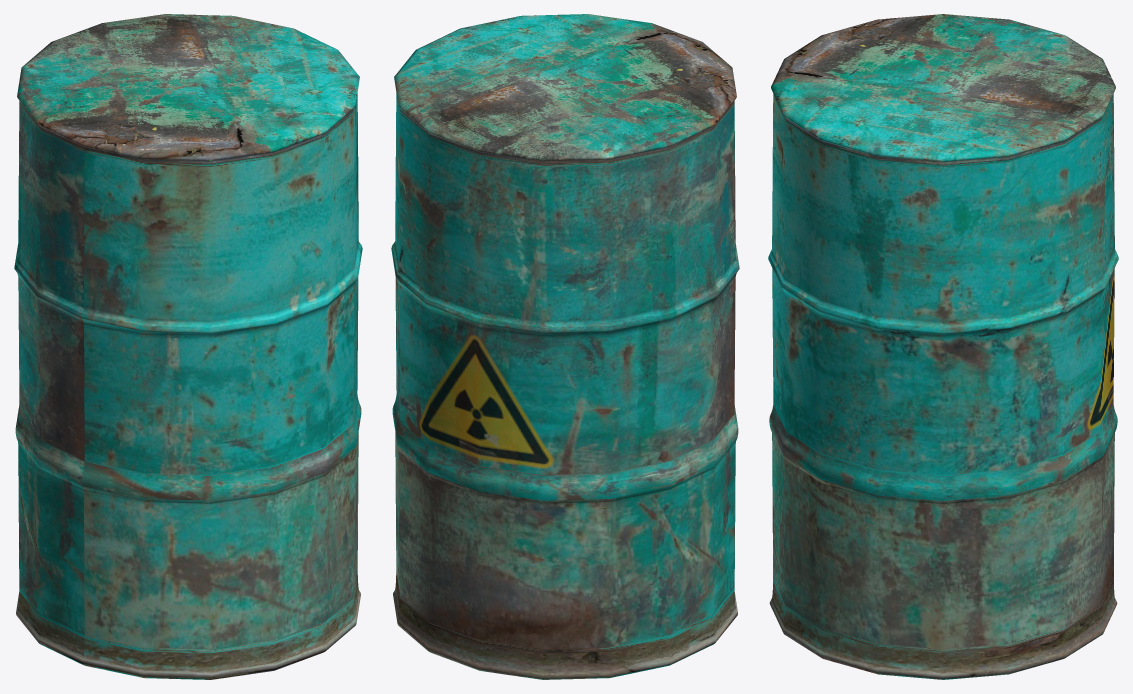
File: barrel.FBX
3 views of the same model, side by side, from view 1: azimuth 30°, elevation 25°; view 2: azimuth 150°, elevation 25°; view 3: azimuth 270°, elevation 25° (orthographic).
Visible parts, largest first — view 1: Line001; view 2: Line001; view 3: Line001.
Part boxes in pixels (x1,y1,x2,y2): Line001: (14,14,362,679); Line001: (391,14,739,679); Line001: (768,14,1118,679).
Bounding box in the file's own units: 20.36 × 34.3 × 20.36.
